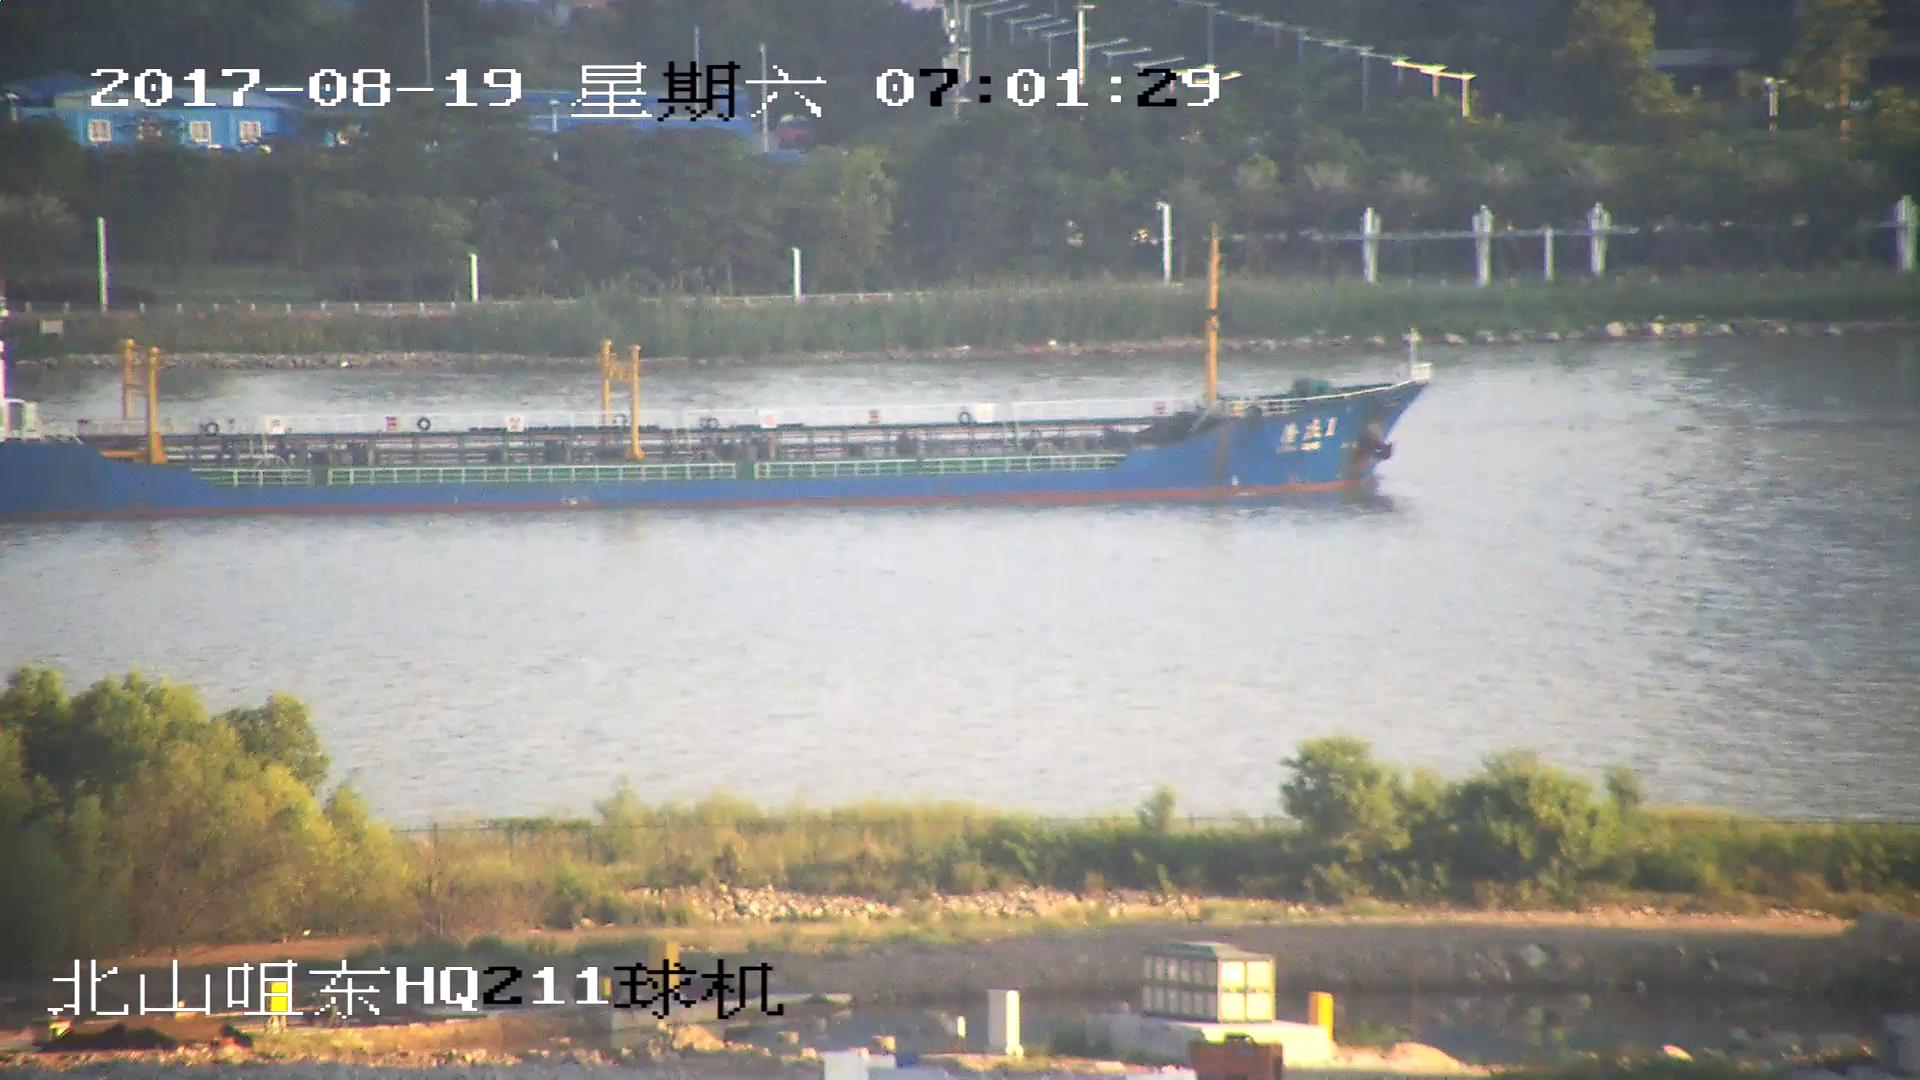general cargo ship: (1, 234, 1428, 504)
